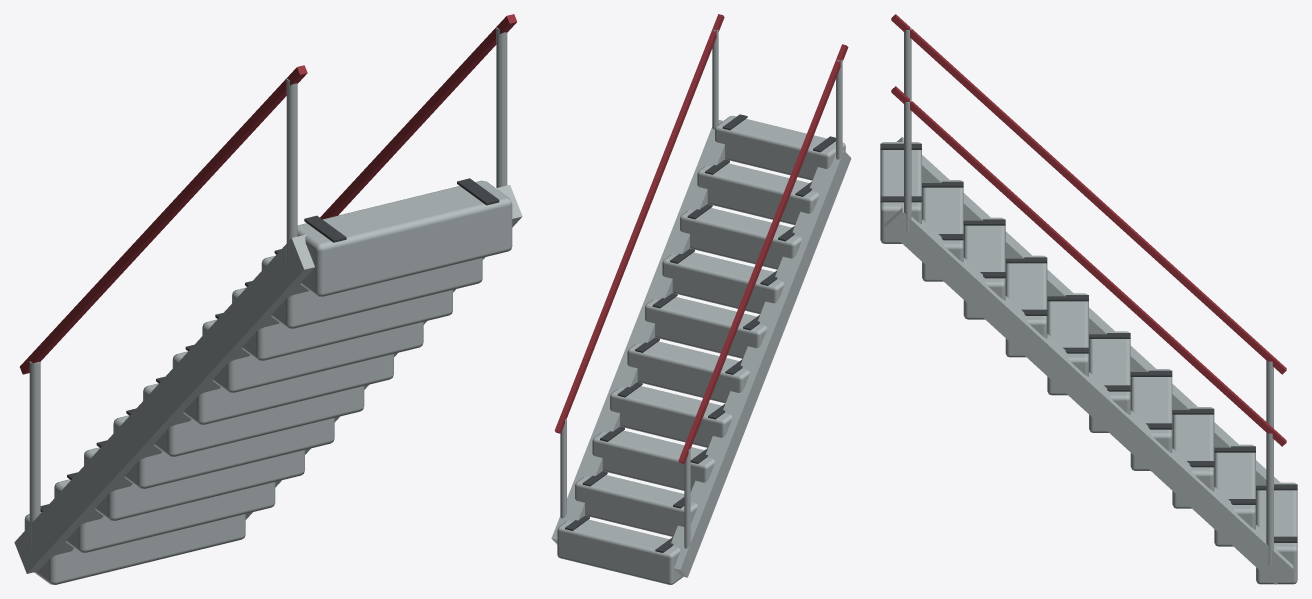
File: pneumatic-tube-mail-exchange-pneumatic-tube-mail-excha-f8d30e26__32307.glb
The picture shows the model from 3 angles, left to right: view 1: azimuth 30°, elevation 25°; view 2: azimuth 150°, elevation 25°; view 3: azimuth 270°, elevation 25°; orthographic projection. The views are drawn at different scales.
Parts seen in each view (by area): view 1: pneumatic-tube-mail-exchange-gantry-stair; view 2: pneumatic-tube-mail-exchange-gantry-stair; view 3: pneumatic-tube-mail-exchange-gantry-stair.
Boxes of the visible parts, x1=… form: pneumatic-tube-mail-exchange-gantry-stair: x1=14, y1=14, x2=522, y2=584; pneumatic-tube-mail-exchange-gantry-stair: x1=551, y1=14, x2=851, y2=584; pneumatic-tube-mail-exchange-gantry-stair: x1=880, y1=14, x2=1297, y2=584.
Size of the model in its own units: 1 by 3.11 by 2.35.
